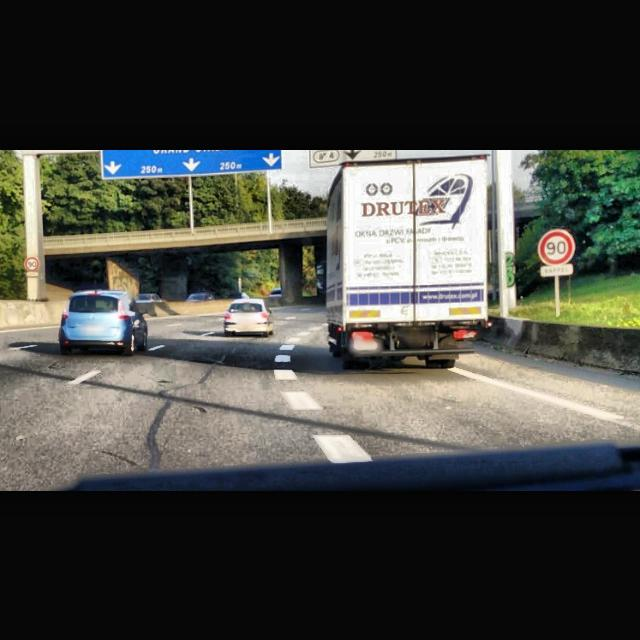speed_90: (540, 231, 574, 263)
